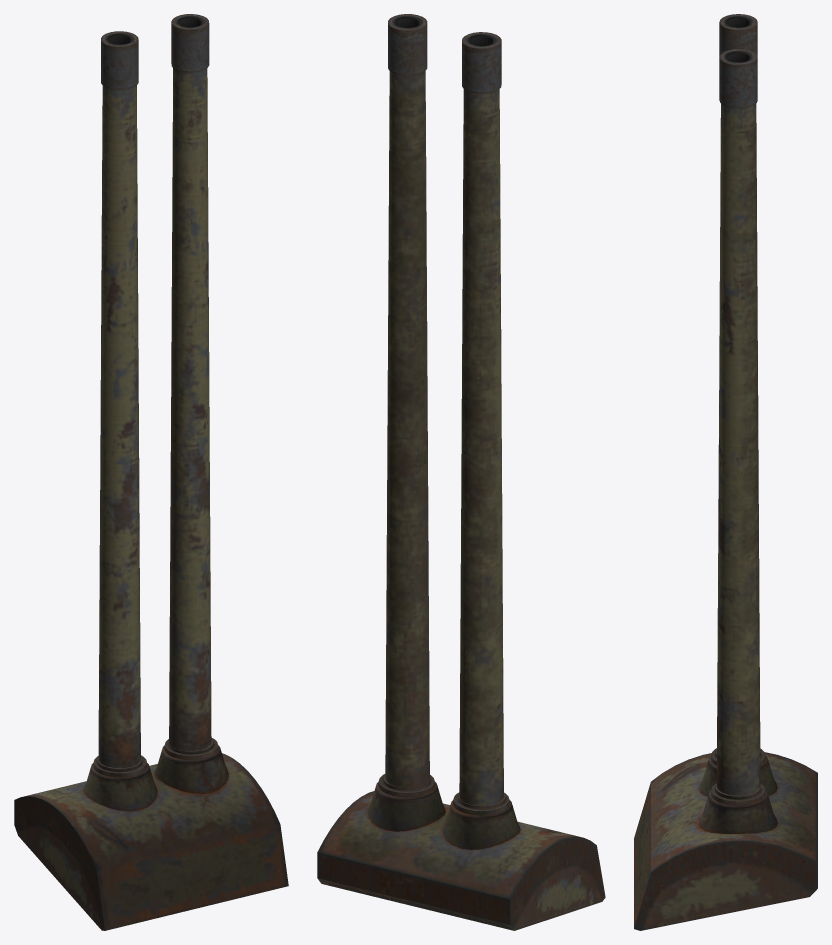
Rendered from Gun_08.glb.
3 views of the same model, side by side, from view 1: azimuth 30°, elevation 25°; view 2: azimuth 150°, elevation 25°; view 3: azimuth 270°, elevation 25° (orthographic). The views are drawn at different scales.
Parts seen in each view (by area): view 1: set_0_group_0; view 2: set_0_group_0; view 3: set_0_group_0.
Part boxes in pixels (bbox=[...]): set_0_group_0: bbox=[14, 14, 288, 930]; set_0_group_0: bbox=[317, 14, 605, 930]; set_0_group_0: bbox=[634, 14, 817, 930].
Size of the model in its own units: 0.9947 by 4.34 by 0.8502.
Materials: 1 (1 with a texture image).
